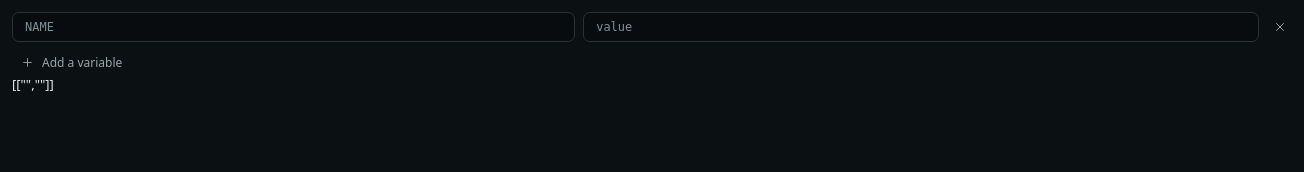
the environment rows › marks a name a shell could not export
Type "2COOL" into the field named "Variable 1 name" at (294, 27), box left=12, top=12, right=575, bottom=42
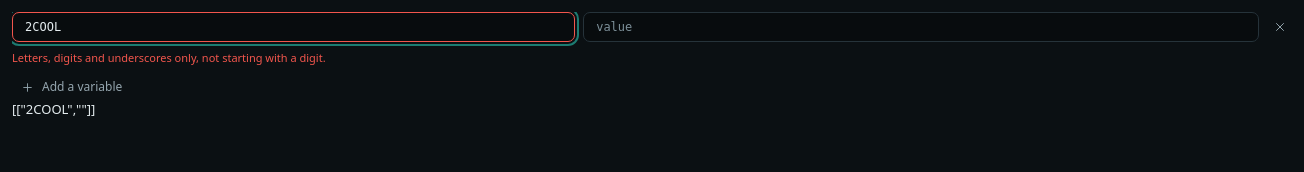
expect the text "not starting with a digit" is shown: met, box left=12, top=50, right=326, bottom=65
